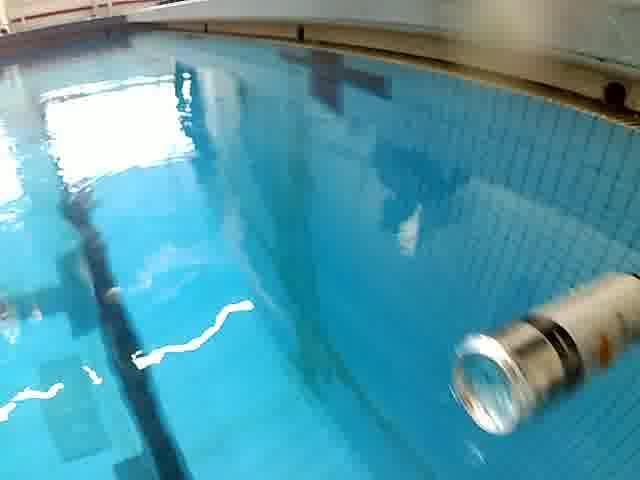Can: (438, 253, 638, 454)
